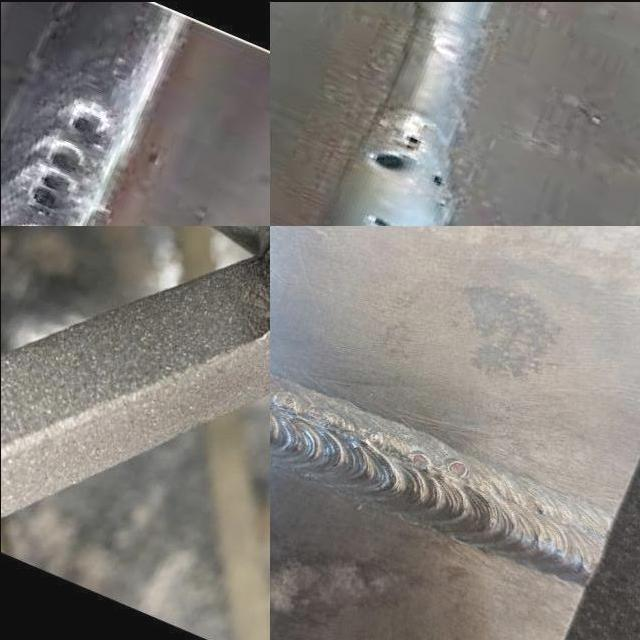defect: (20, 103, 112, 217), (367, 131, 423, 175), (423, 166, 457, 192), (446, 456, 476, 479), (308, 404, 335, 426), (406, 451, 434, 470), (278, 392, 300, 414), (364, 209, 395, 224), (534, 502, 549, 515)
